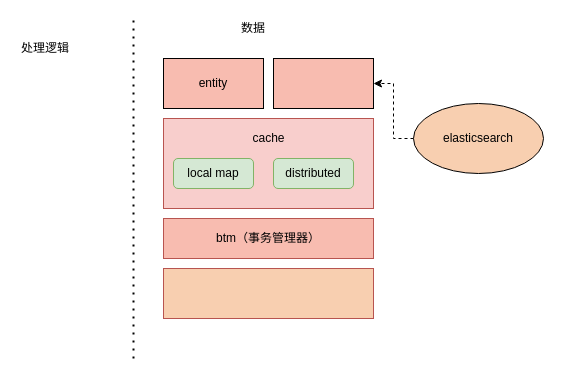
Some shapes in this 561 by 377 pixel diagram are drawn without their labels. Each missing label, with the centre of its shape:
databases: point (268, 293)
index: point (323, 83)
